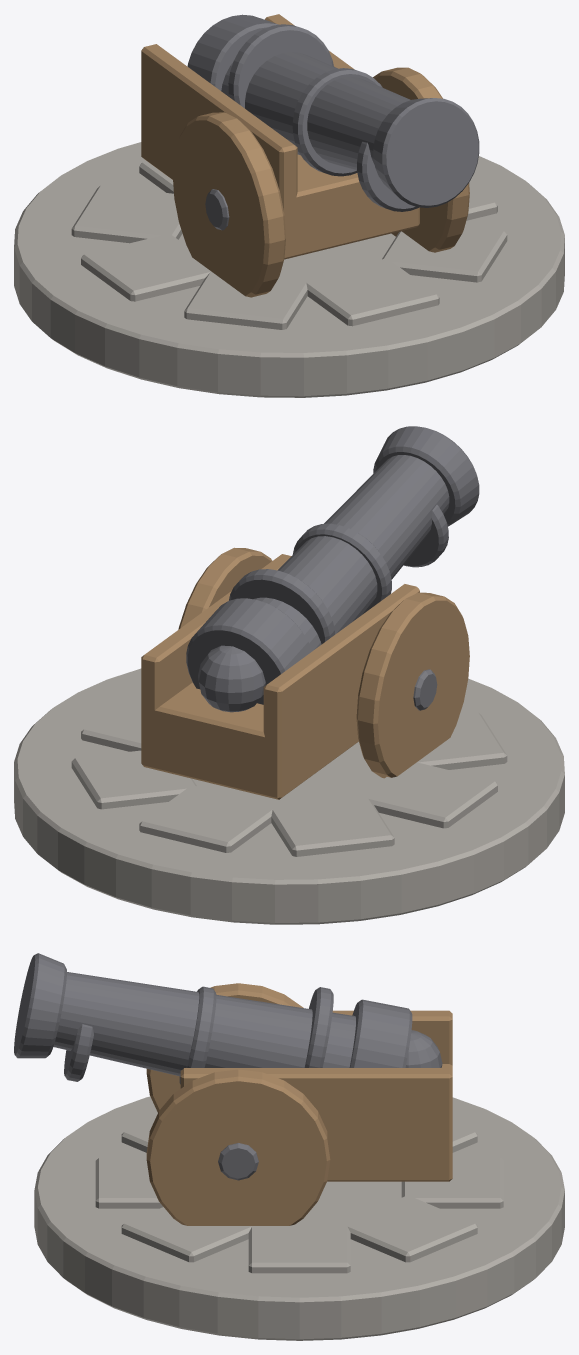
File: cannon.glb
3 views of the same model, one above another, from view 1: azimuth 30°, elevation 25°; view 2: azimuth 150°, elevation 25°; view 3: azimuth 270°, elevation 25° (orthographic). The views are drawn at different scales.
Visible parts, largest first — view 1: cannon; view 2: cannon; view 3: cannon.
Part boxes in pixels (box(x1,y1,x2,y2)): cannon: box(14, 14, 564, 397); cannon: box(14, 426, 564, 924); cannon: box(14, 953, 564, 1340).
Bounding box in the file's own units: 1.56 × 0.8829 × 1.62.
